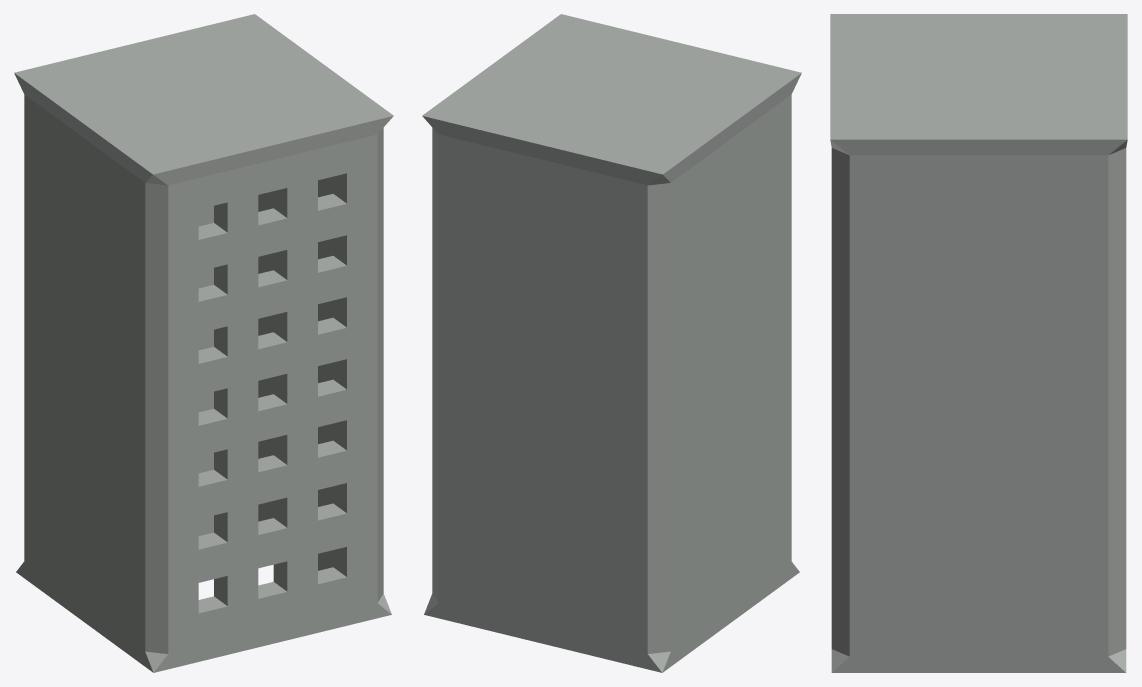
File: building.glb
3 views of the same model, side by side, from view 1: azimuth 30°, elevation 25°; view 2: azimuth 150°, elevation 25°; view 3: azimuth 270°, elevation 25° (orthographic). The views are drawn at different scales.
Parts seen in each view (by area): view 1: Cube; view 2: Cube; view 3: Cube.
Part boxes in pixels (box(x1,y1,x2,y2)): Cube: box(14, 14, 393, 672); Cube: box(422, 14, 801, 672); Cube: box(830, 14, 1127, 672).
Size of the model in its own units: 2.02 by 4 by 2.02.
Materials: 1 (1 with a texture image).
